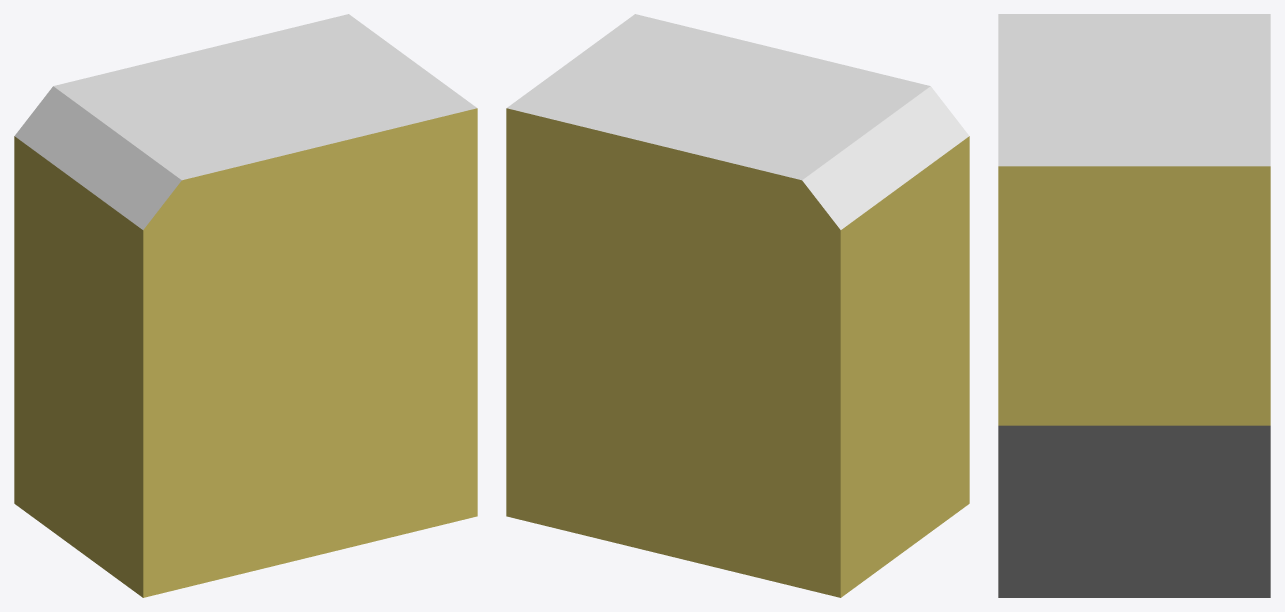
The model's file is toilet 1.fbx.
The picture shows the model from 3 angles, left to right: view 1: azimuth 30°, elevation 25°; view 2: azimuth 150°, elevation 25°; view 3: azimuth 270°, elevation 25°; orthographic projection. The views are drawn at different scales.
Parts seen in each view (by area): view 1: Cube; view 2: Cube; view 3: Cube.
Part boxes in pixels (x1,y1,x2,y2): Cube: [14, 14, 477, 597]; Cube: [506, 14, 969, 597]; Cube: [998, 14, 1270, 597].
Size of the model in its own units: 300 by 350 by 200.
